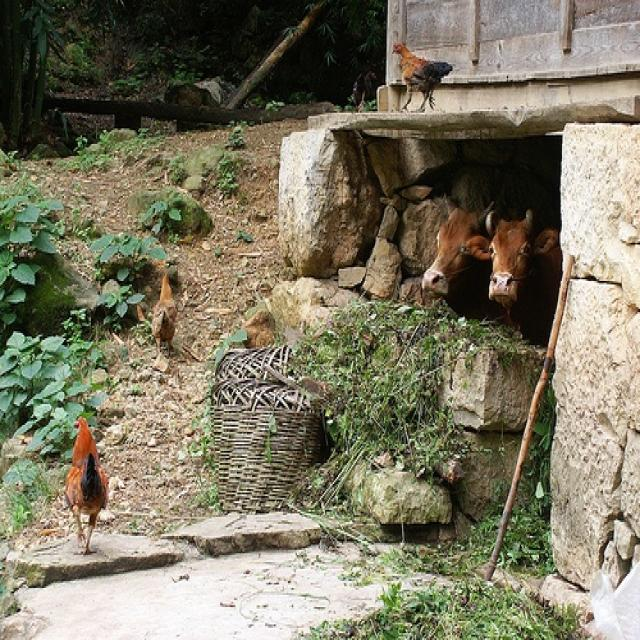bird: (64, 413, 110, 557), (389, 40, 453, 111), (147, 272, 179, 356)
cow: (484, 204, 562, 344), (420, 196, 485, 309)
